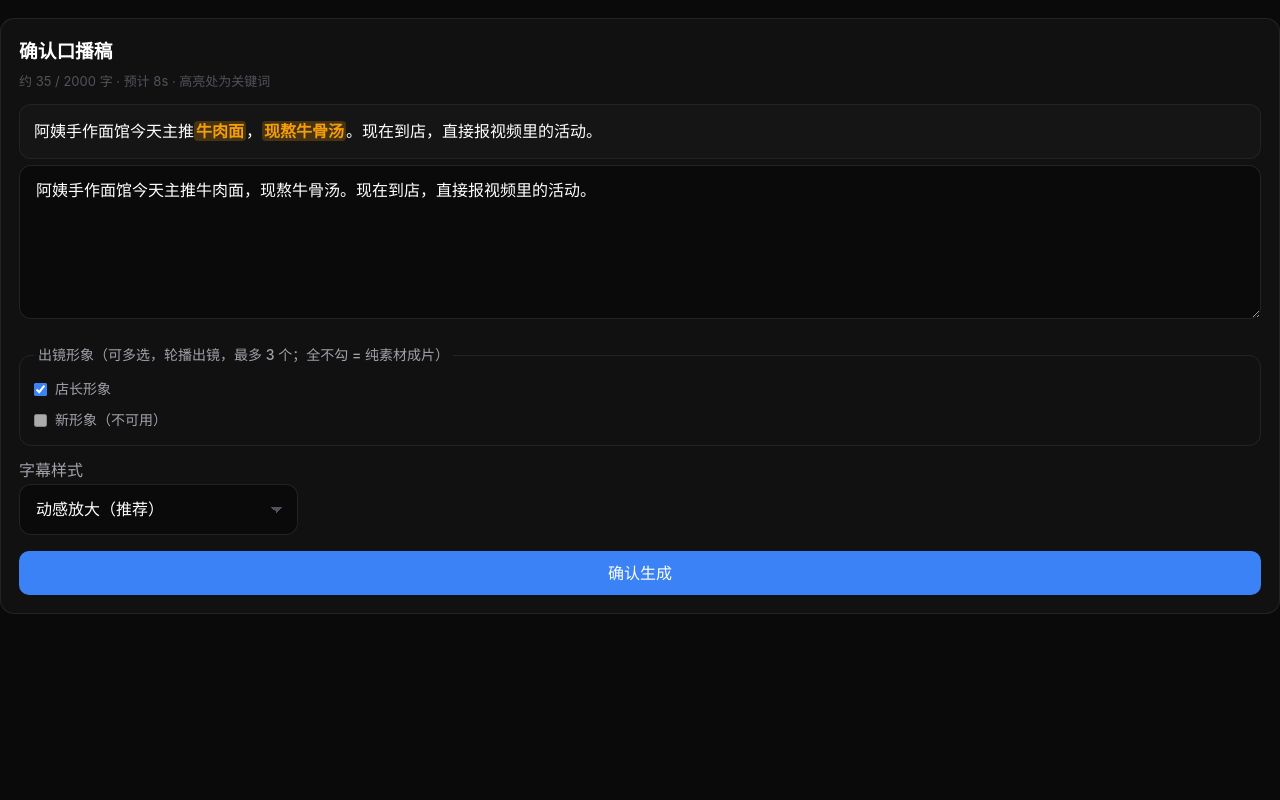
Test case: ScriptConfirm › disables confirm when the voiceover is empty
Clear the text box named "口播稿编辑": {"x": 640, "y": 242} [19, 164, 1261, 318]
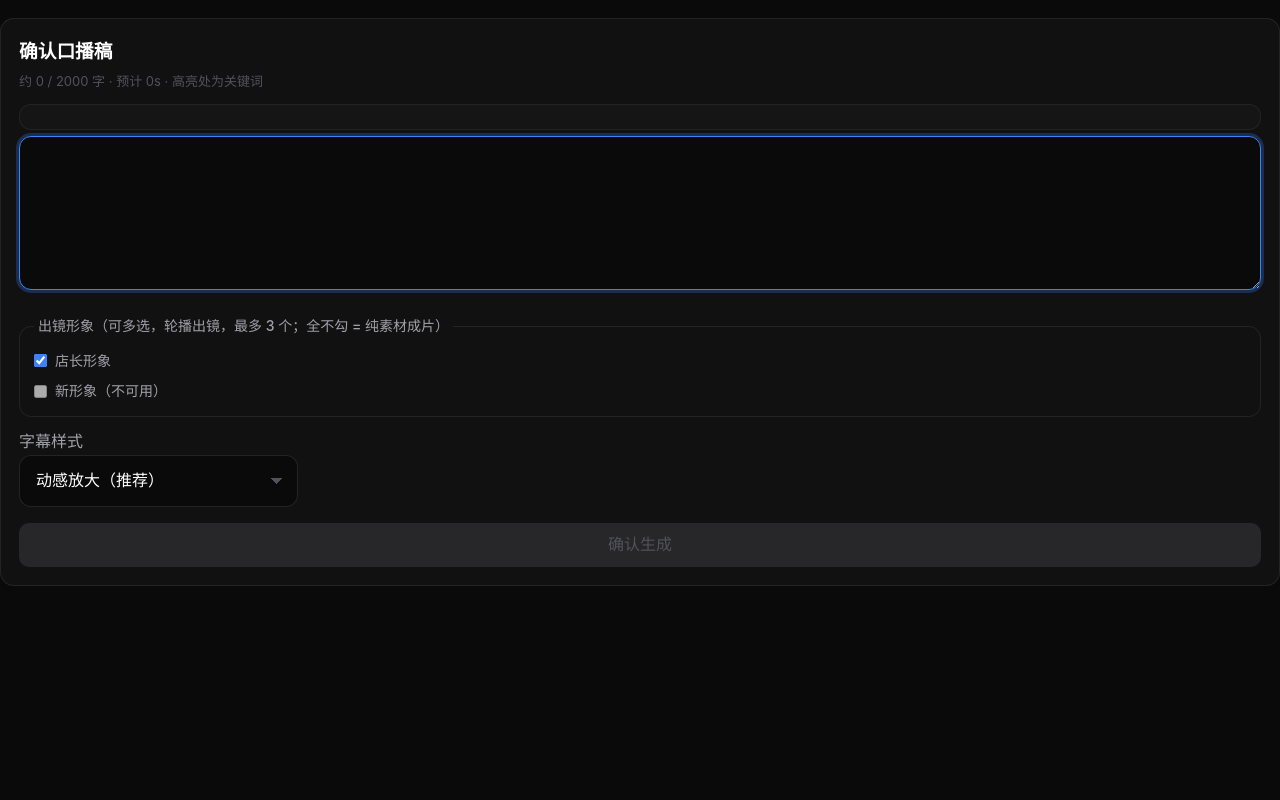
Check: the button "确认生成" is disabled, box [19, 523, 1261, 567]
